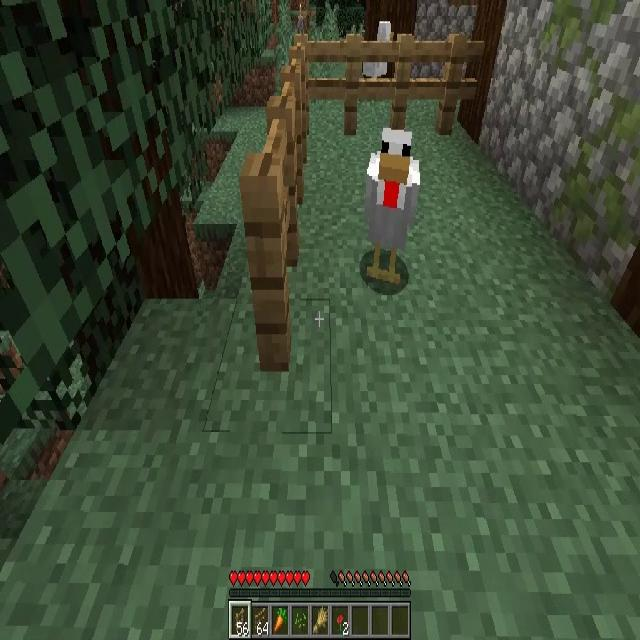duck: (367, 124, 421, 289), (362, 20, 395, 76)
